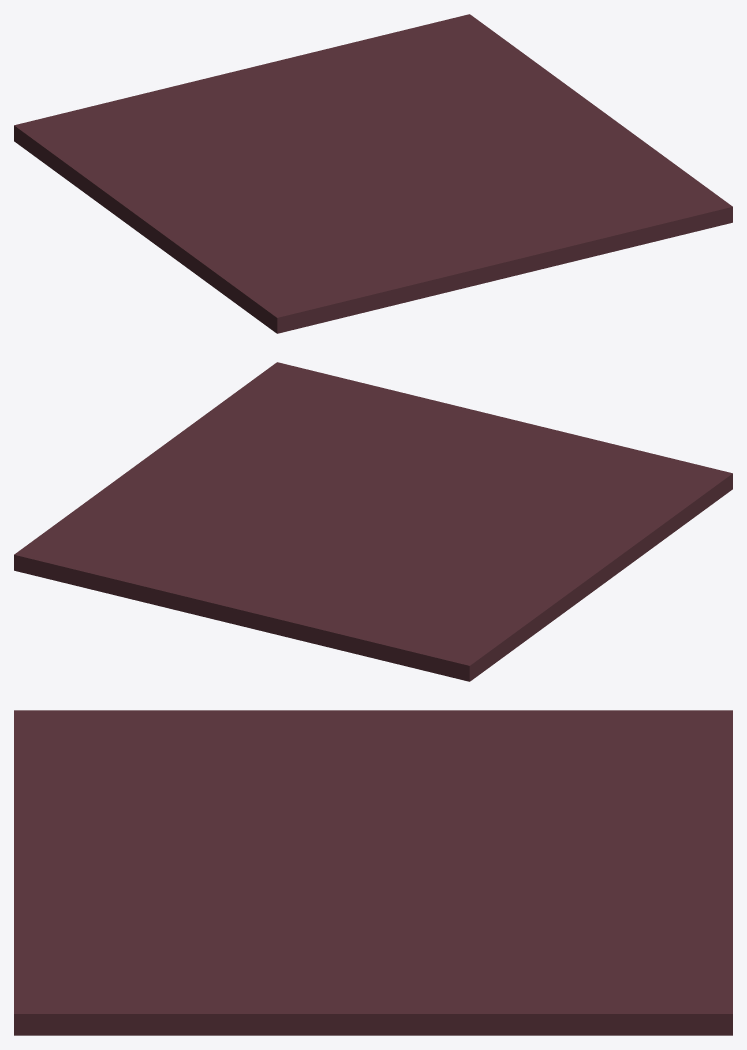
Rendered from empire-pavement-mosaic-3x3m-labyrinth-empire.glb.
3 views of the same model, one above another, from view 1: azimuth 30°, elevation 25°; view 2: azimuth 150°, elevation 25°; view 3: azimuth 270°, elevation 25° (orthographic). The views are drawn at different scales.
Parts seen in each view (by area): view 1: SM_Pavement_Mosaic_3x3m_Labyrinth_Empire; view 2: SM_Pavement_Mosaic_3x3m_Labyrinth_Empire; view 3: SM_Pavement_Mosaic_3x3m_Labyrinth_Empire.
Part boxes in pixels (<box>): SM_Pavement_Mosaic_3x3m_Labyrinth_Empire: <box>14,14,732,333</box>; SM_Pavement_Mosaic_3x3m_Labyrinth_Empire: <box>14,362,732,681</box>; SM_Pavement_Mosaic_3x3m_Labyrinth_Empire: <box>14,710,732,1035</box>.
Bounding box in the file's own units: 3 × 0.1002 × 3.
